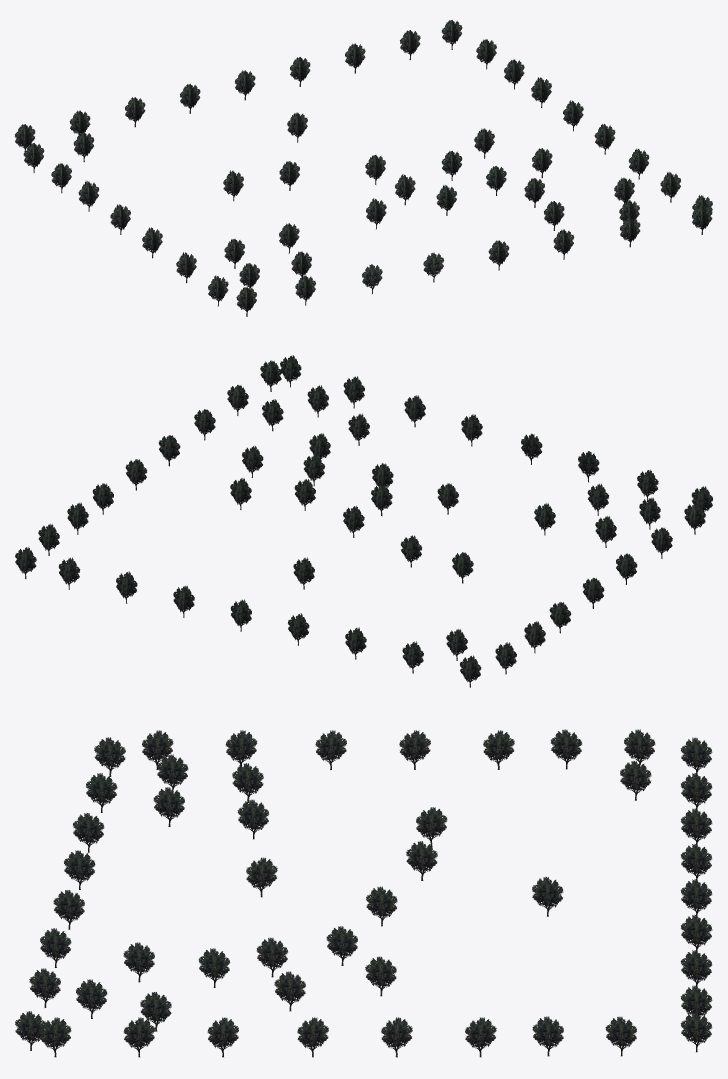
Rendered from planeTree11.FBX.
3 renders of one model, top to bottom at view 1: azimuth 30°, elevation 25°; view 2: azimuth 150°, elevation 25°; view 3: azimuth 270°, elevation 25°, orthographic. The views are drawn at different scales.
Parts seen in each view (by area): view 1: planeTree11; view 2: planeTree11; view 3: planeTree11.
Part boxes in pixels (left/top/right/bottom): planeTree11: left=14, top=20, right=712, bottom=316; planeTree11: left=15, top=355, right=712, bottom=687; planeTree11: left=15, top=729, right=712, bottom=1057.
Bounding box in the file's own units: 4452 × 279 × 4354.
Materials: 1 (1 with a texture image).
